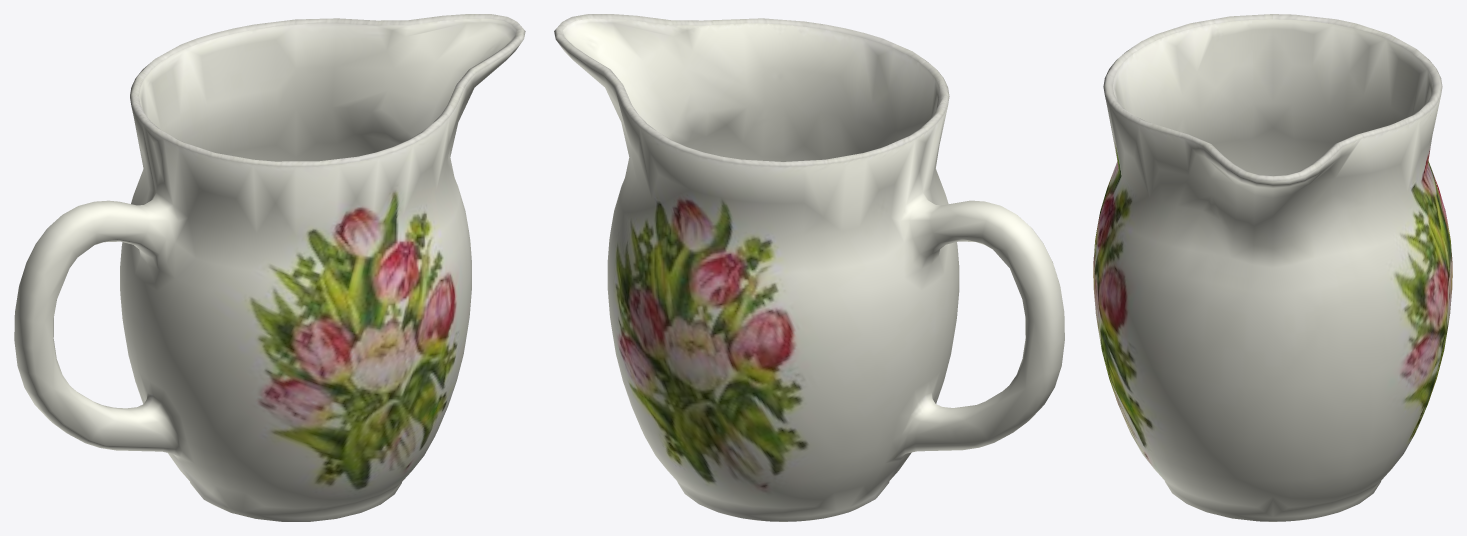
The model's file is jug_01.glb.
The picture shows the model from 3 angles, left to right: view 1: azimuth 30°, elevation 25°; view 2: azimuth 150°, elevation 25°; view 3: azimuth 270°, elevation 25°; orthographic projection. The views are drawn at different scales.
Parts seen in each view (by area): view 1: jug_01; view 2: jug_01; view 3: jug_01.
Boxes of the visible parts, x1,y1,x2,y2 form: jug_01: [14, 14, 525, 521]; jug_01: [554, 14, 1064, 521]; jug_01: [1093, 14, 1452, 521].
Bounding box in the file's own units: 0.275 × 0.2113 × 0.1675.
Materials: 1 (1 with a texture image).
